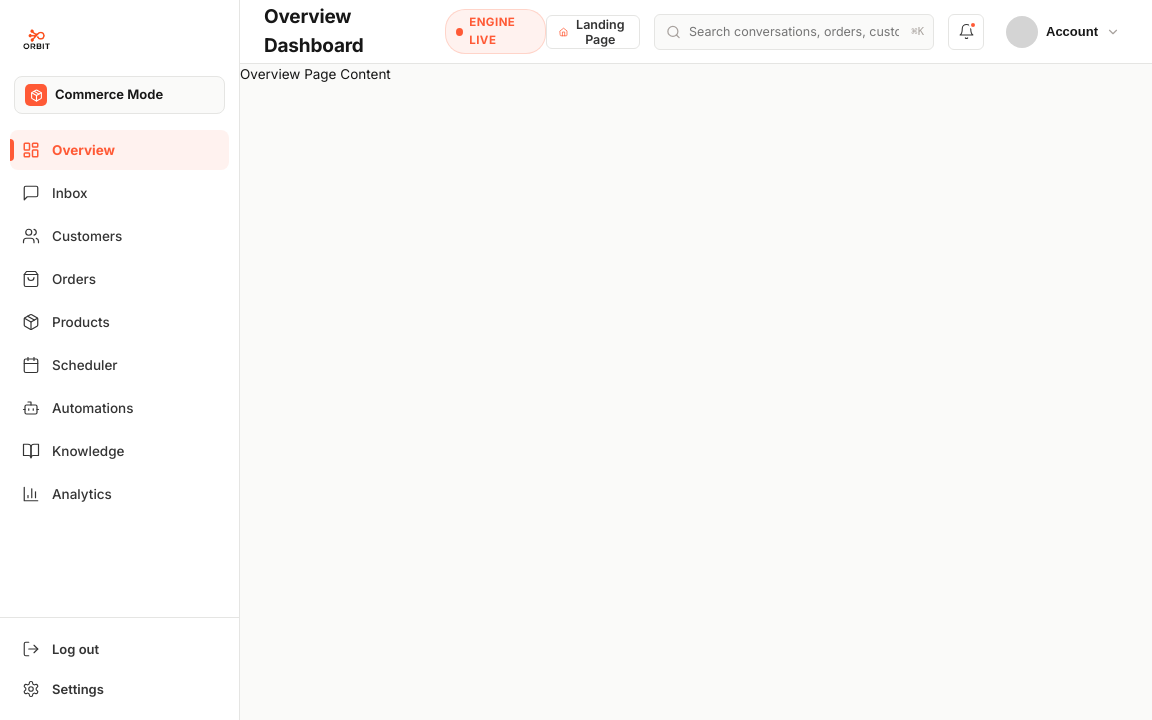
App Shell — Sidebar & TopBar › TopBar › toggles account menu and provides profile links and logout
Click the button with alt text "account" at (1063, 32), box [998,12,1128,52]
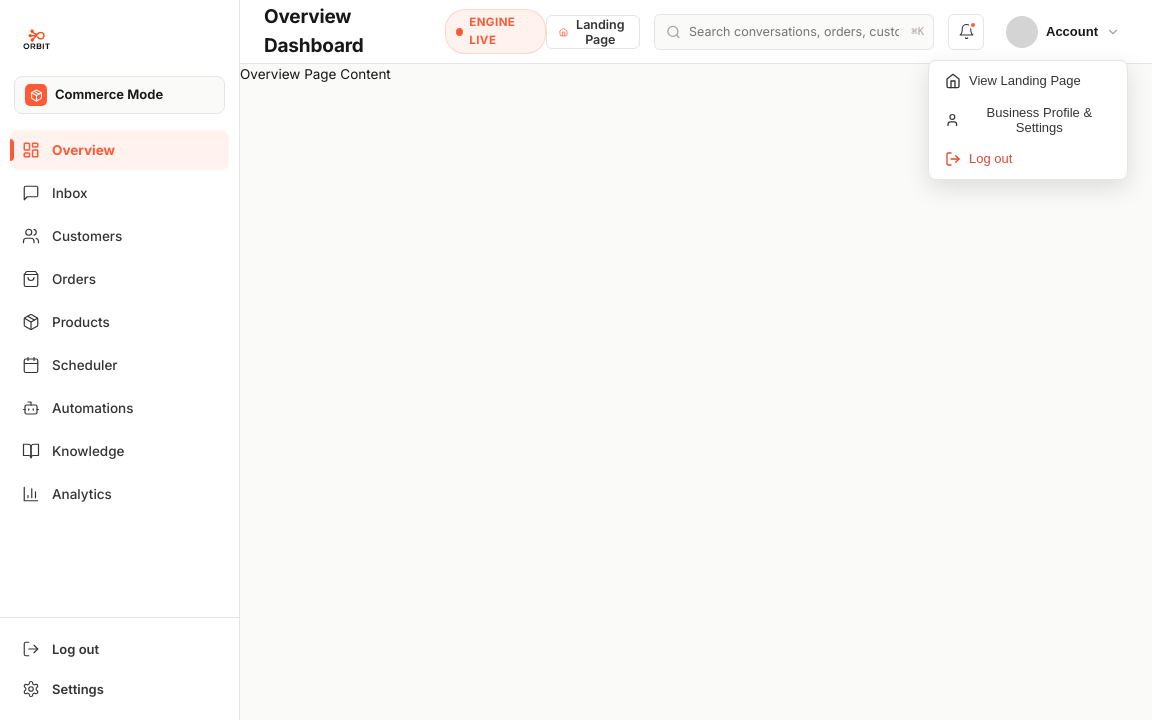
Result: the button "Business Profile & Settings" is shown at [933,96,1123,142]
Result: the button "View Landing Page" is shown
# Click landing page link
Click the button "View Landing Page" at (1028, 80), box [933,64,1123,96]
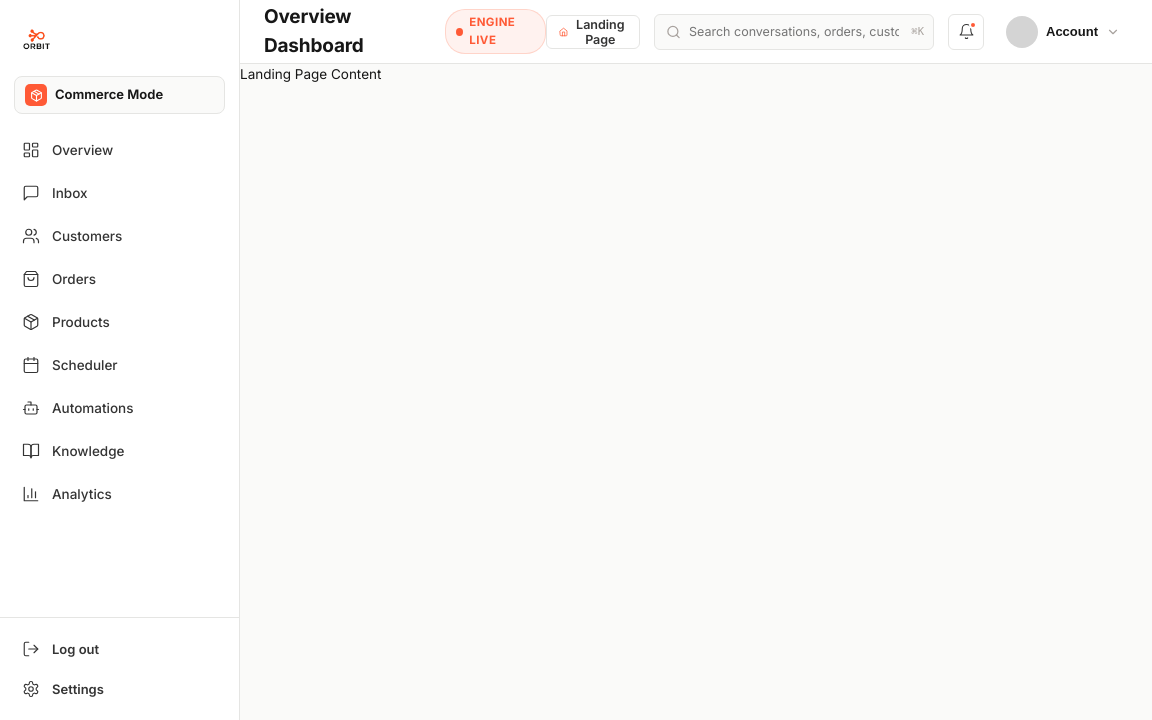
Result: the text "Landing Page Content" is shown at [240,66,381,82]
